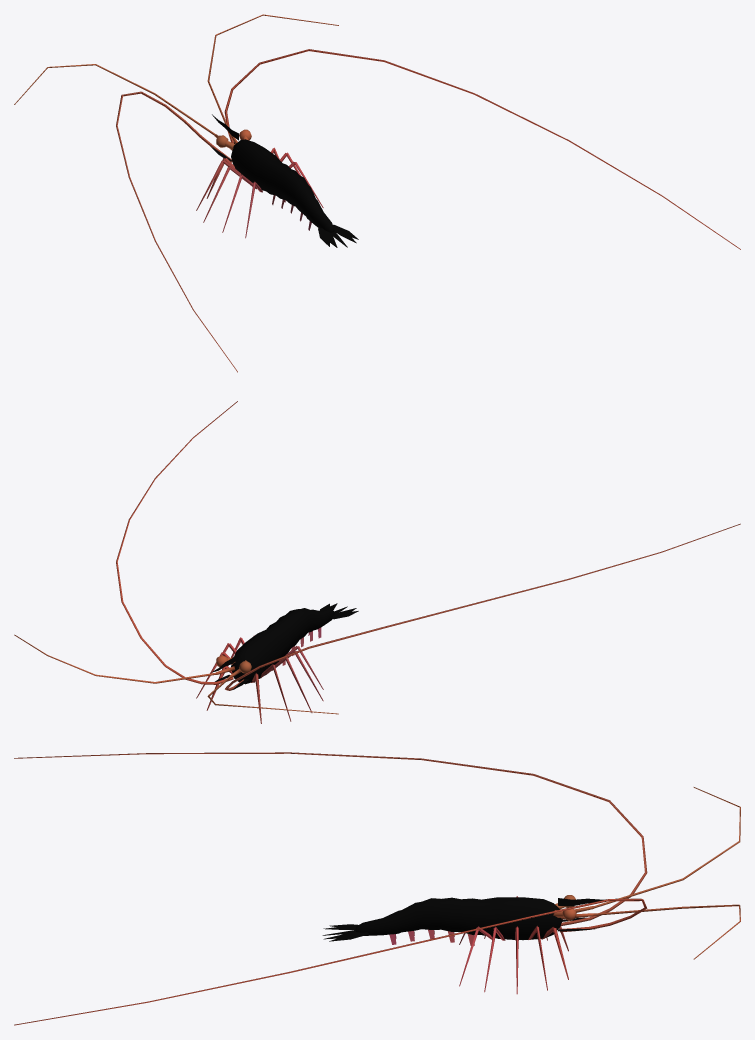
File: shrimp_cleaner_game.glb
3 renders of one model, top to bottom at view 1: azimuth 30°, elevation 25°; view 2: azimuth 150°, elevation 25°; view 3: azimuth 270°, elevation 25°, orthographic. The views are drawn at different scales.
Parts seen in each view (by area): view 1: shrimp_cleaner_game; view 2: shrimp_cleaner_game; view 3: shrimp_cleaner_game.
Part boxes in pixels (bbox=[...]): shrimp_cleaner_game: bbox=[14, 14, 740, 372]; shrimp_cleaner_game: bbox=[14, 401, 740, 723]; shrimp_cleaner_game: bbox=[14, 752, 740, 1025].
Bounding box in the file's own units: 0.1242 × 0.0262 × 0.1428.
